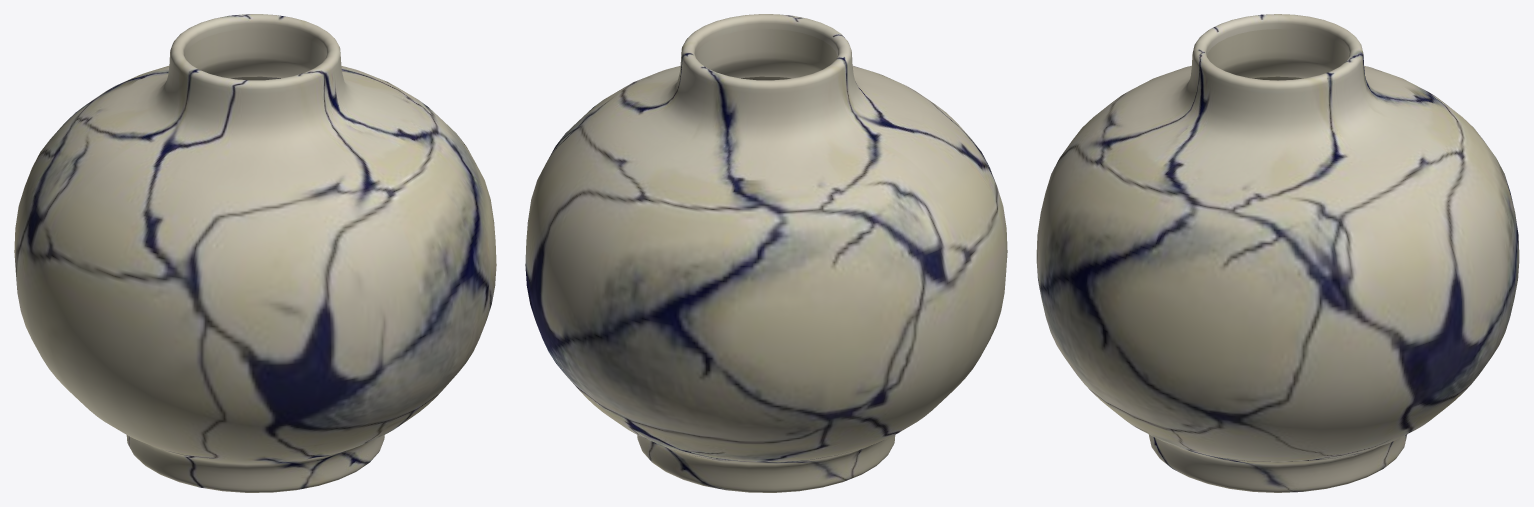
File: Vase.002.fbx
3 views of the same model, side by side, from view 1: azimuth 30°, elevation 25°; view 2: azimuth 150°, elevation 25°; view 3: azimuth 270°, elevation 25° (orthographic).
Parts seen in each view (by area): view 1: Vase.002; view 2: Vase.002; view 3: Vase.002.
Part boxes in pixels (box(x1,y1,x2,y2)): Vase.002: box(14, 14, 496, 492); Vase.002: box(525, 14, 1007, 492); Vase.002: box(1036, 14, 1519, 492).
Size of the model in its own units: 25.62 by 22.98 by 25.62.
Materials: 1 (1 with a texture image).
